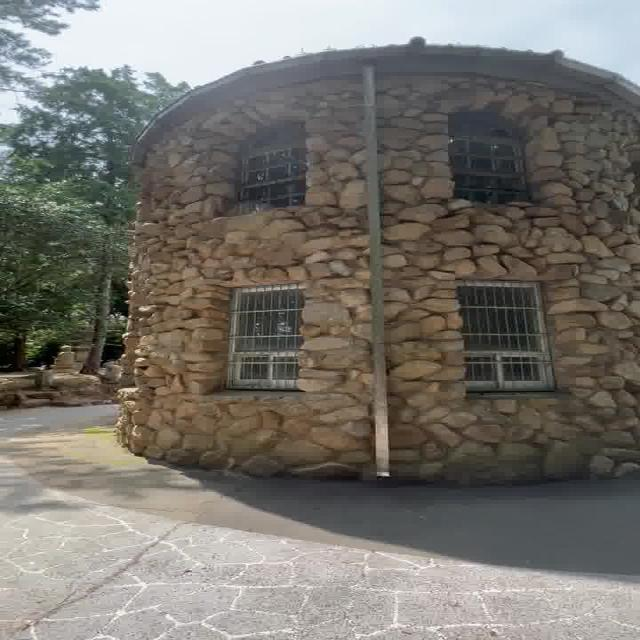building: (135, 48, 640, 480)
